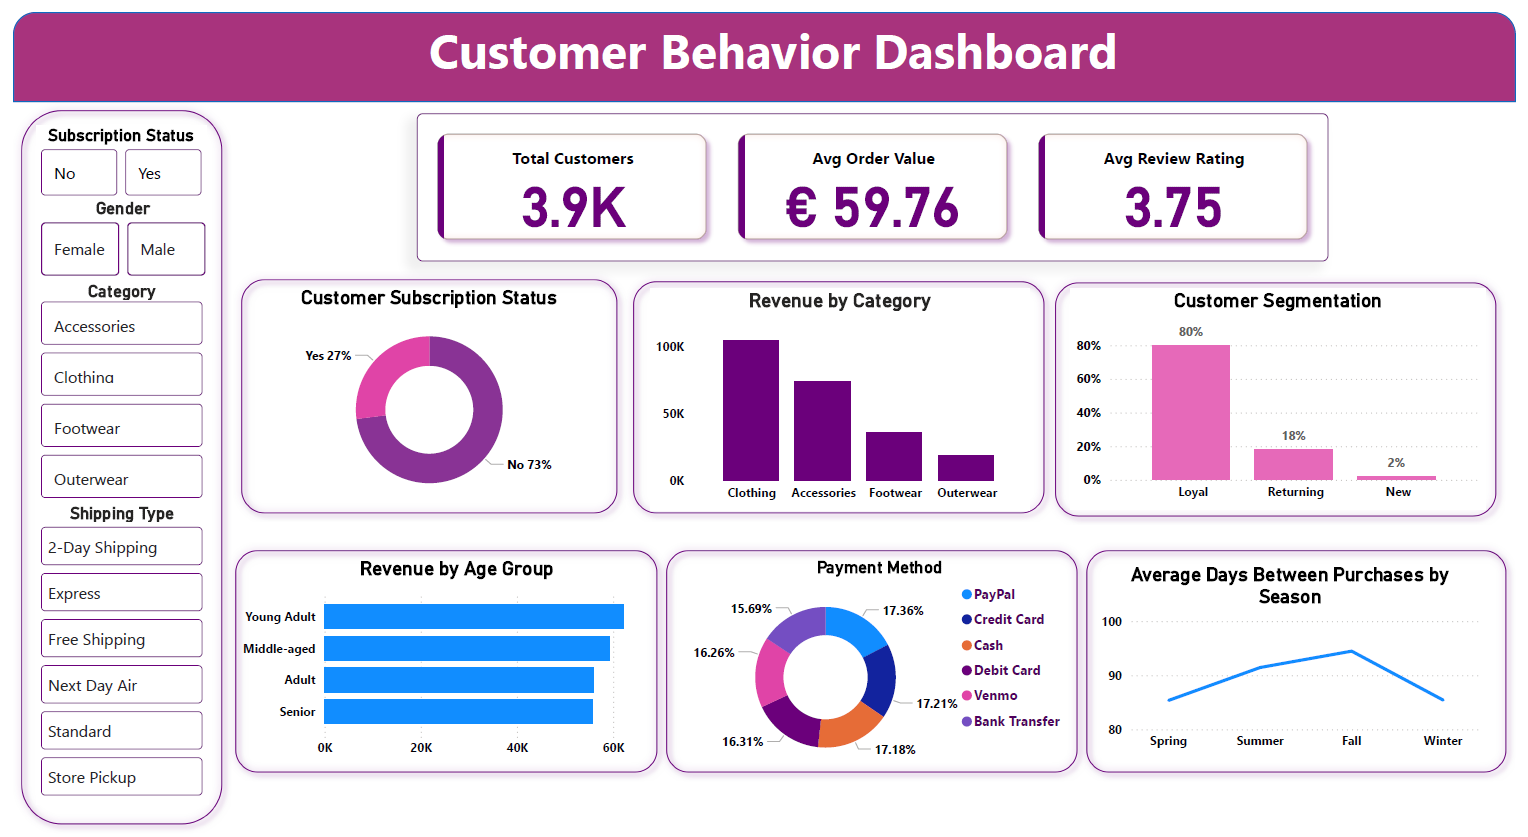

This screenshot's page, from the dashboard's own definition file:
{"tool":"powerbi","page":{"name":"Page 1","canvas":[1500,820],"ordinal":0},"visuals":[{"type":"cardVisual","fields":{"Data":["customer_behavior customer.Number of Customers","customer_behavior customer.Average Purchase Amount","customer_behavior customer.Average Review Rating"]},"box":[402.5,101.2,910,147.5],"z":0},{"type":"shape","box":[0,0,1500,90],"z":1000},{"type":"textbox","box":[17.5,0,1482.5,76.2],"z":2000},{"type":"donutChart","title":"Customer Subscription Status","fields":{"Category":["customer_behavior customer.subscription_status"],"Y":["CountNonNull(customer_behavior customer.customer_id)"]},"box":[249.1,272.5,332.5,226.2],"z":3000,"group":"g3"},{"type":"clusteredBarChart","title":"Revenue by Age Group","fields":{"Category":["customer_behavior customer.age_group"],"Y":["Sum(customer_behavior customer.purchase_amount)"]},"box":[222.5,543.8,440,208.8],"z":3000,"group":"g4"},{"type":"lineChart","title":"Average Days Between Purchases by Season","fields":{"Category":["Dimseason.season"],"Y":["Avg(customer_behavior customer.purchase_frequency_days)"]},"box":[1081.2,550,387.5,196.2],"z":3000},{"type":"advancedSlicerVisual","title":"Subscription Status","fields":{"Values":["customer_behavior customer.subscription_status"]},"box":[22.5,113.3,170.3,75.8],"z":4000,"group":"g6"},{"type":"shape","box":[219.1,257.5,392.5,251.2],"z":4000,"group":"g3"},{"type":"shape","box":[1062.5,528.8,437.5,238.8],"z":4000},{"type":"shape","box":[0,90,217.5,730],"z":5000},{"type":"shape","box":[610,260,428,249],"z":5000,"group":"g2"},{"type":"shape","box":[212.5,528.8,438.8,238.8],"z":5000,"group":"g4"},{"type":"advancedSlicerVisual","title":"Gender","fields":{"Values":["customer_behavior customer.gender"]},"box":[22.6,186.5,174,82.3],"z":6000,"group":"g6"},{"type":"group","id":"g1","title":"Group 3","box":[1032.1,261.2,457.5,251.2],"z":6000},{"type":"shape","box":[1032.1,261.2,457.5,251.2],"z":6000,"group":"g7"},{"type":"clusteredColumnChart","title":"Revenue by Category","fields":{"Category":["customer_behavior customer.category"],"Y":["Sum(customer_behavior customer.purchase_amount)"]},"box":[635.9,276.2,378.8,222.3],"z":6000,"group":"g2"},{"type":"group","id":"g2","title":"Group 4","box":[610,260,428,249],"z":7000},{"type":"group","id":"g3","title":"Group 5","box":[219.1,257.5,392.5,251.2],"z":8000},{"type":"advancedSlicerVisual","title":"Category","fields":{"Values":["customer_behavior customer.category"]},"box":[22.5,268.5,171.5,225],"z":8000,"group":"g6"},{"type":"clusteredColumnChart","title":"Customer Segmentation","fields":{"Category":["customer_behavior.Customer Segment"],"Y":["Sum(customer_behavior.Customer %)"]},"box":[1055.6,276.2,414.4,221.2],"z":8000,"group":"g7"},{"type":"donutChart","title":"Payment Method","fields":{"Category":["customer_behavior customer.payment_method"],"Y":["CountNonNull(customer_behavior customer.payment_method)"]},"box":[671.2,543.8,387.5,221.2],"z":9000},{"type":"advancedSlicerVisual","title":"Shipping Type","fields":{"Values":["customer_behavior customer.shipping_type"]},"box":[22.5,490,171.5,300.8],"z":10000,"group":"g6"},{"type":"group","id":"g4","title":"Group 7","box":[212.5,528.8,450,238.8],"z":10000},{"type":"shape","box":[642.5,528.8,428.8,238.8],"z":11000},{"type":"group","id":"g5","title":"Group 2","box":[22.5,113.3,174.2,677.5],"z":12000},{"type":"group","id":"g6","title":"Group 1","box":[22.5,113.3,174.2,677.5],"z":12002,"group":"g5"},{"type":"group","id":"g7","title":"Group 6","box":[1032.1,261.2,457.5,251.2],"z":13002,"group":"g1"}]}

Visuals, with their boxes in screenshot pixels (x1, y1, x2, y2), scaled from the page's 1500x820 canvas onto the 1528x837 screenshot:
cardVisual - customer_behavior customer.Number of Customers x customer_behavior customer.Average Purchase Amount: region(410, 103, 1337, 254)
shape: region(0, 0, 1527, 92)
textbox: region(18, 0, 1527, 78)
"Customer Subscription Status" donutChart: region(254, 278, 592, 509)
"Revenue by Age Group" clusteredBarChart: region(227, 555, 675, 768)
"Average Days Between Purchases by Season" lineChart: region(1101, 561, 1496, 762)
"Subscription Status" advancedSlicerVisual: region(23, 116, 196, 193)
shape: region(223, 263, 623, 519)
shape: region(1082, 540, 1527, 784)
shape: region(0, 92, 222, 836)
shape: region(621, 265, 1057, 520)
shape: region(216, 540, 663, 784)
"Gender" advancedSlicerVisual: region(23, 190, 200, 274)
"Group 3" group: region(1051, 267, 1517, 523)
shape: region(1051, 267, 1517, 523)
"Revenue by Category" clusteredColumnChart: region(648, 282, 1034, 509)
"Group 4" group: region(621, 265, 1057, 520)
"Group 5" group: region(223, 263, 623, 519)
"Category" advancedSlicerVisual: region(23, 274, 198, 504)
"Customer Segmentation" clusteredColumnChart: region(1075, 282, 1497, 508)
"Payment Method" donutChart: region(684, 555, 1078, 781)
"Shipping Type" advancedSlicerVisual: region(23, 500, 198, 807)
"Group 7" group: region(216, 540, 675, 784)
shape: region(654, 540, 1091, 784)
"Group 2" group: region(23, 116, 200, 807)
"Group 1" group: region(23, 116, 200, 807)
"Group 6" group: region(1051, 267, 1517, 523)
